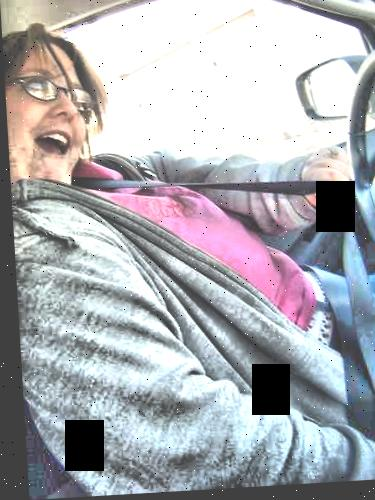seatbelt: (104, 152, 375, 297)
